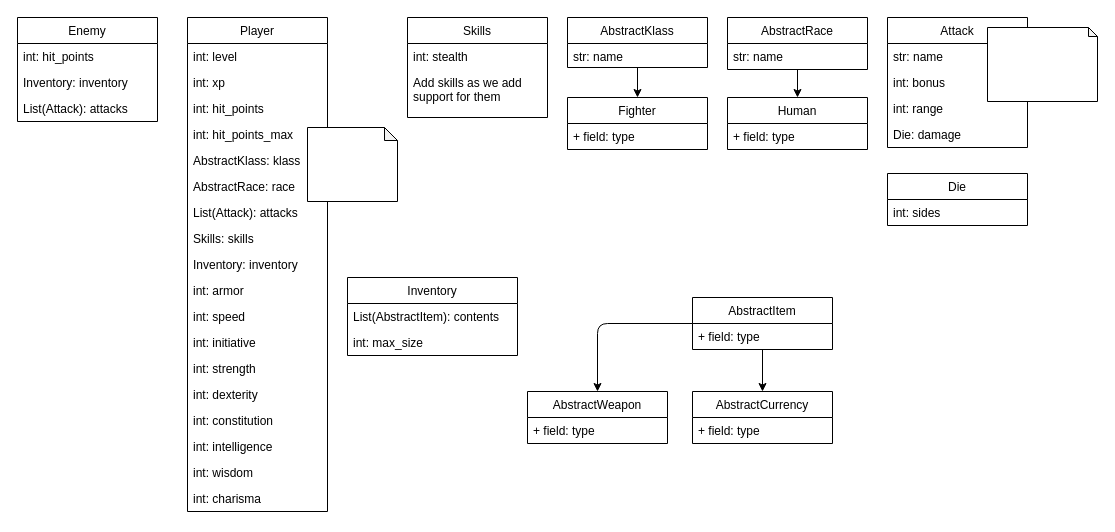
Some shapes in this 1115 by 532 pixel diagram are drawn without their labels. The centre of each missing label's shape, as x and y in pixels:
"Class is spelled with a k to not interfere with python" belongs at point (352, 164).
"Damage is the die that gets rolled for that attack. (ex/ d8 or d10)" belongs at point (1042, 64).
